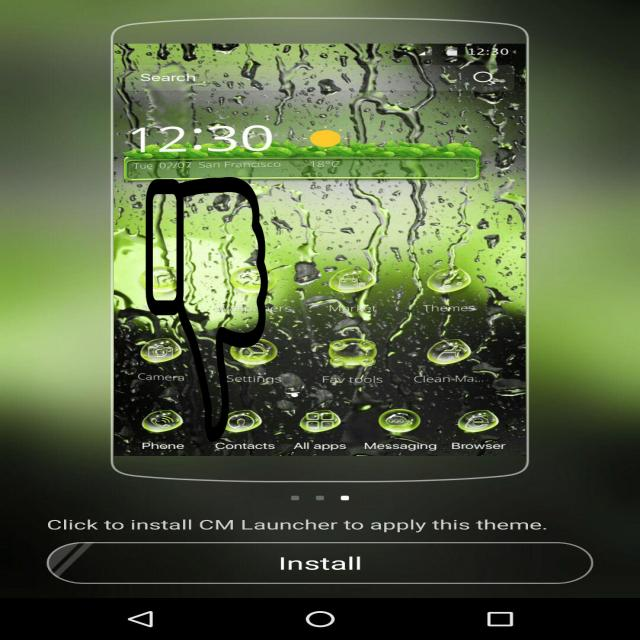obstruction: (144, 177, 270, 442)
